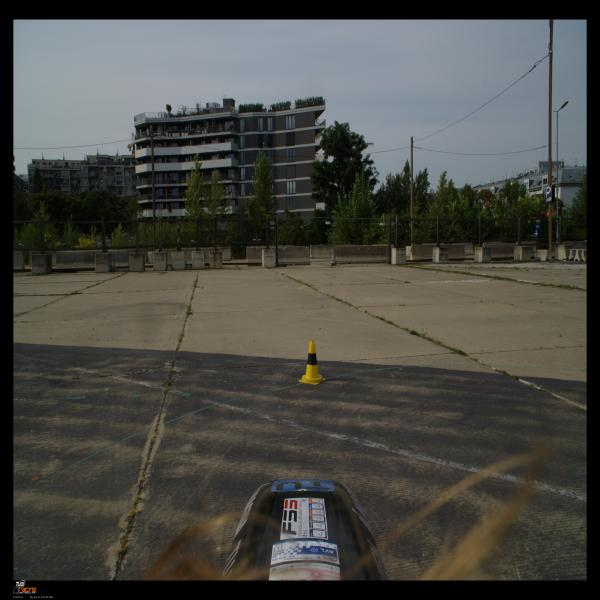yellow_cone: (298, 339, 326, 385)
